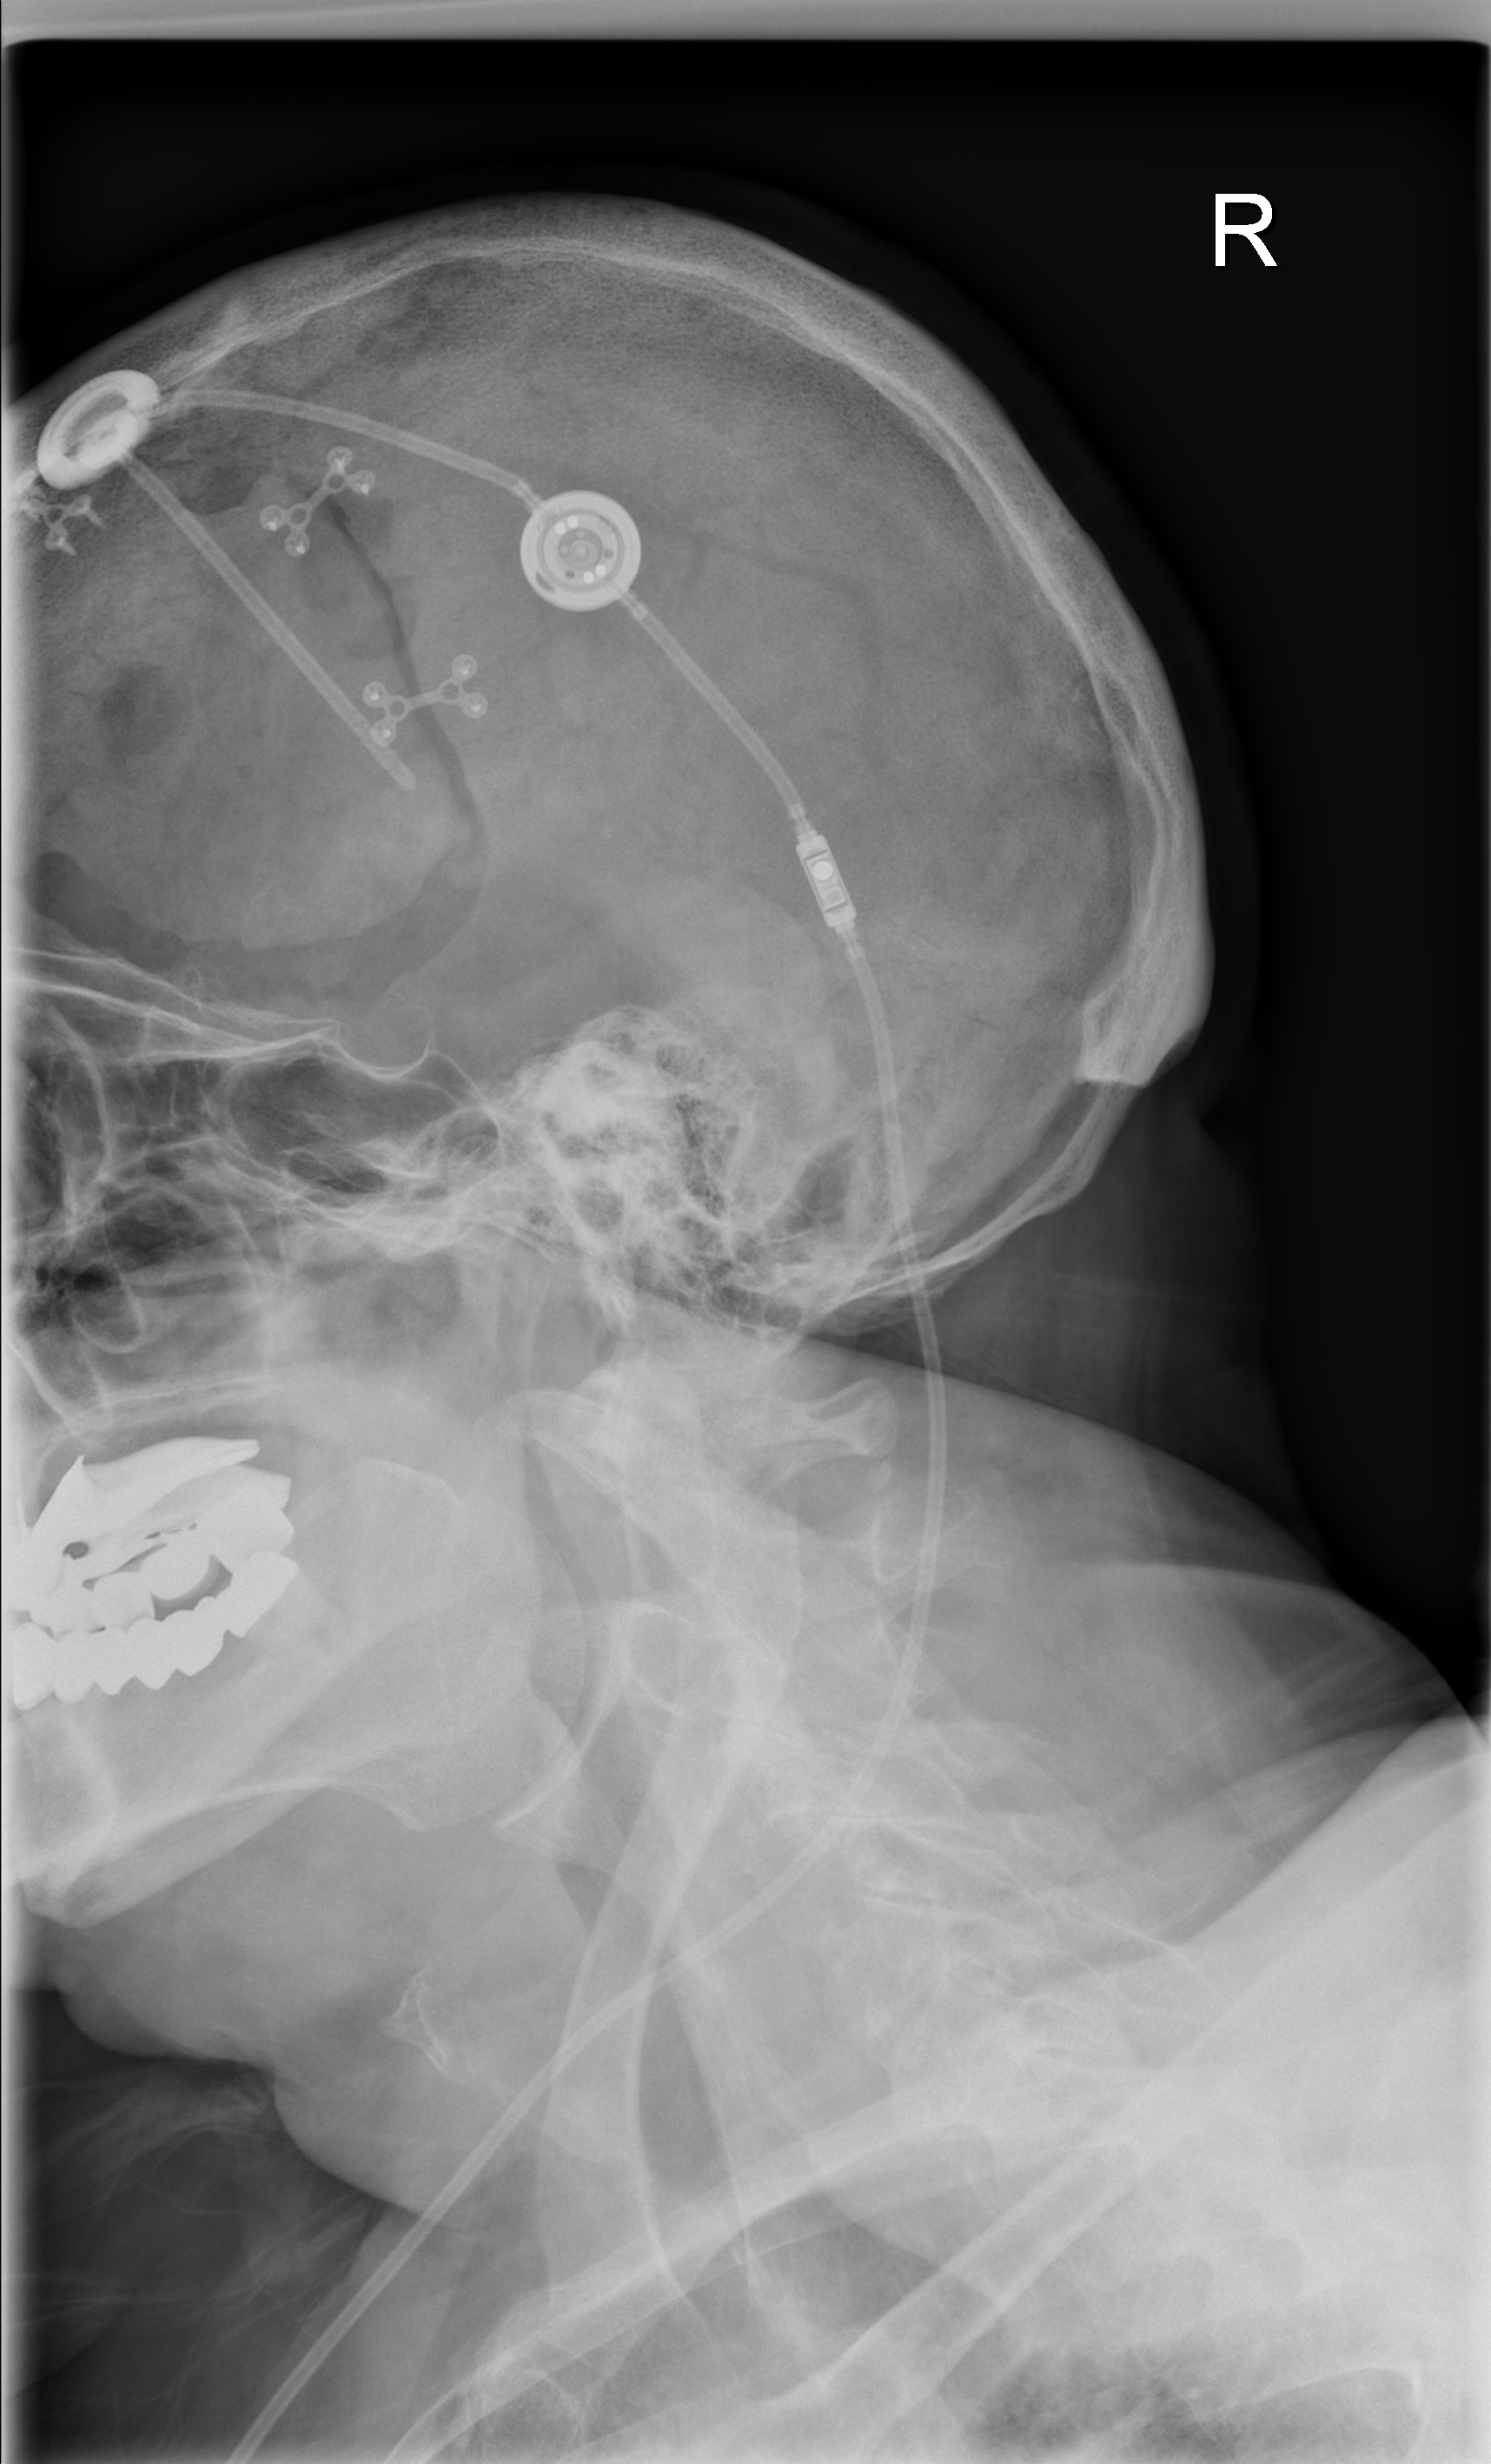proGAV 2.0: (516, 488, 648, 620)
proGAV Gravitationseinheit: (785, 820, 868, 940)
